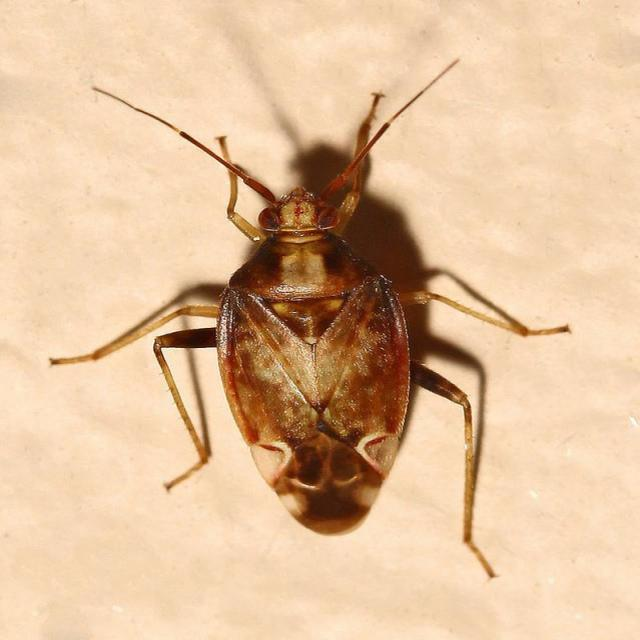Miridae-Adult-: (30, 67, 582, 555)
